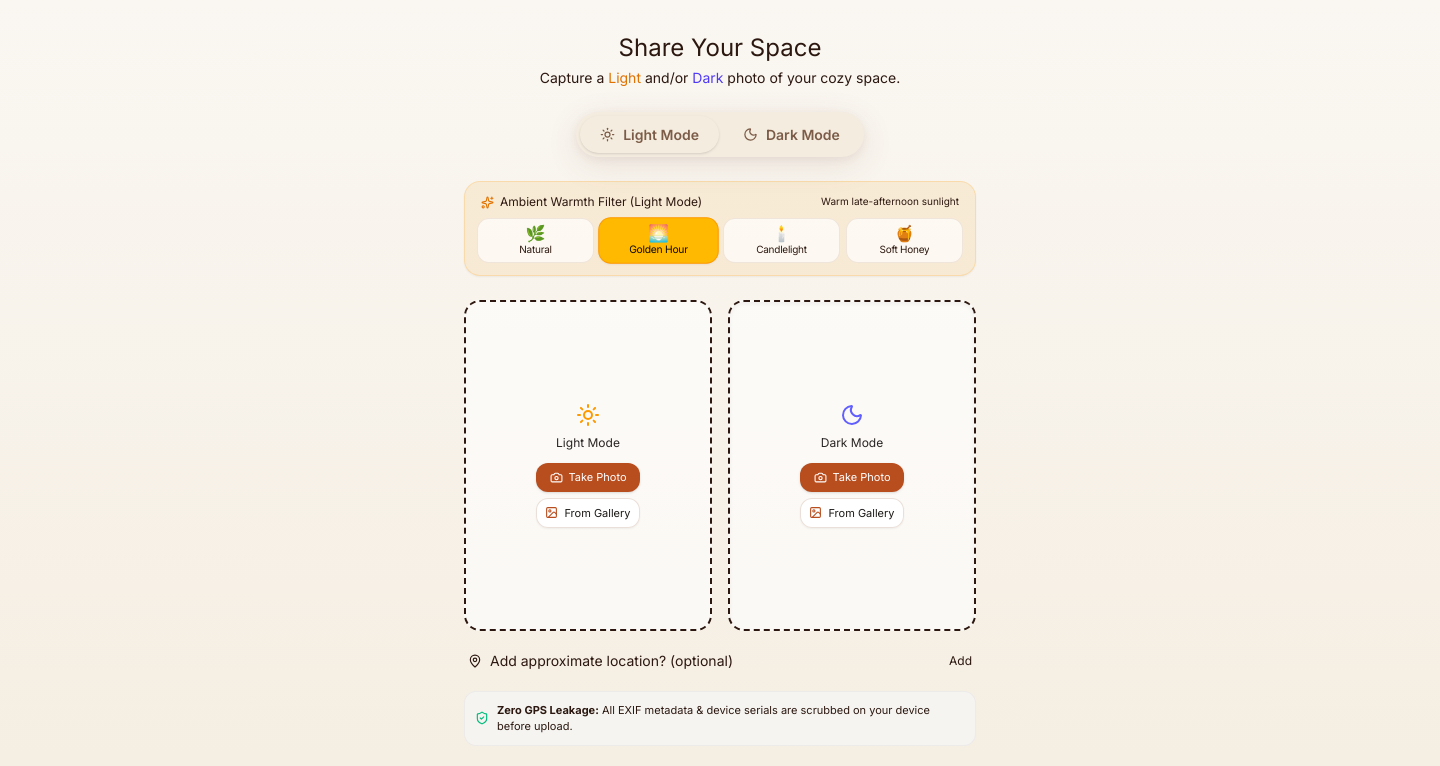
Scenario: CameraPage Component › allows switching warmth filters
Click the button with test id "filter-btn-candlelight" at (782, 241), box [723,218,840,263]
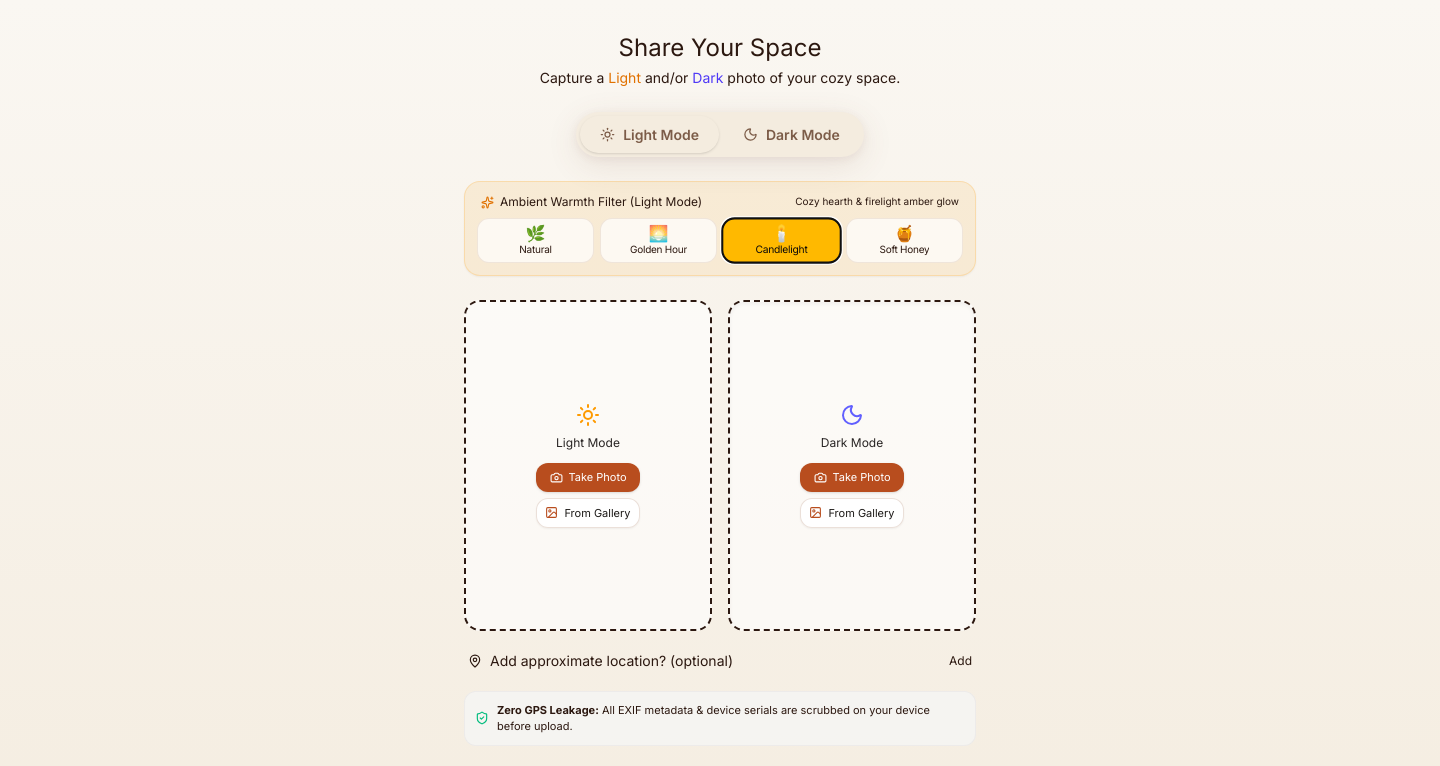
Check: the text "Cozy hearth & firelight amber glow" is shown, box [795,195,959,209]
